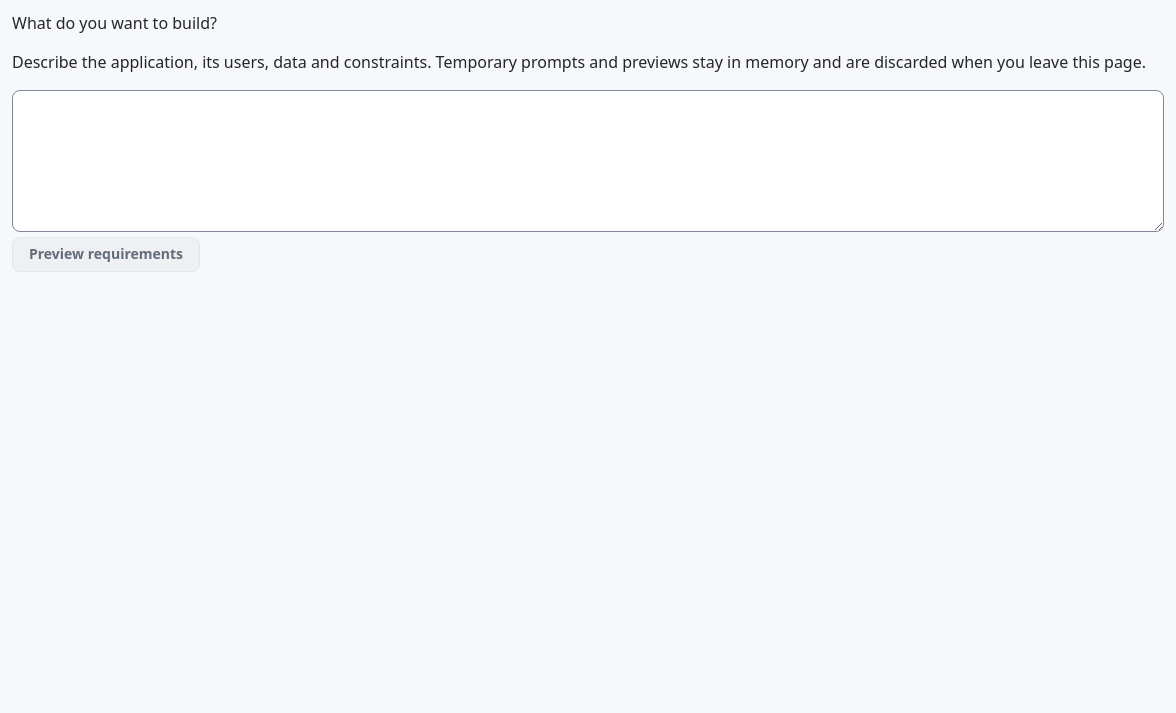
Test: mounted requirements preview › keeps an already received preview visible after editing access is lost
The width and height of the screenshot is (1176, 713).
Later steps or results of the test are not shown.
Type "A small synthetic notes API." into the text box labelled "What do you want to build?" at (588, 161), box [12,90,1164,232]
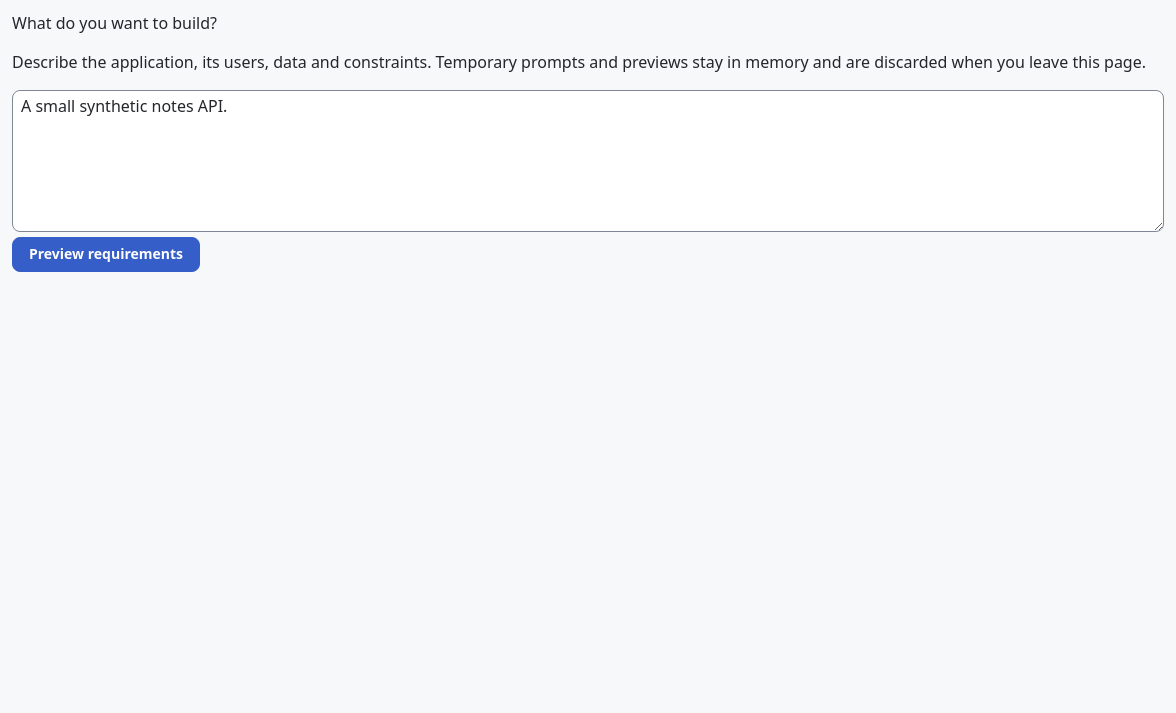
Click the button "Preview requirements" at (106, 254), box [12,237,200,272]
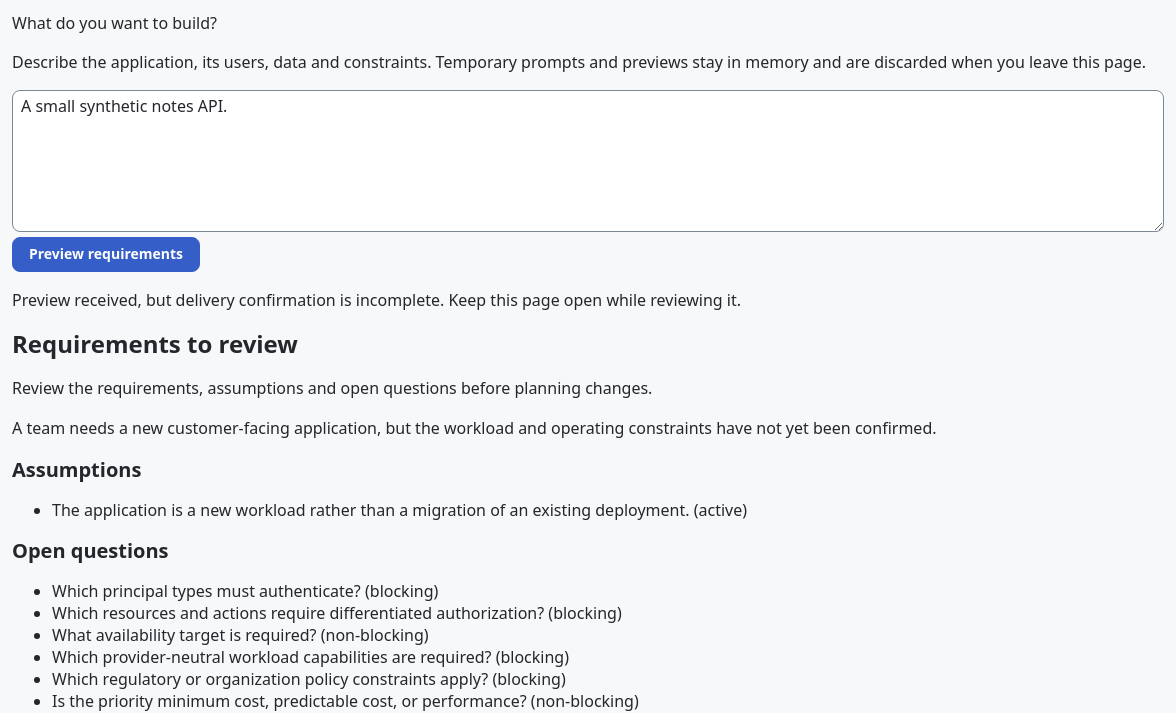
Result: the message shows "delivery confirmation is incomplete" at [12,289,741,311]
